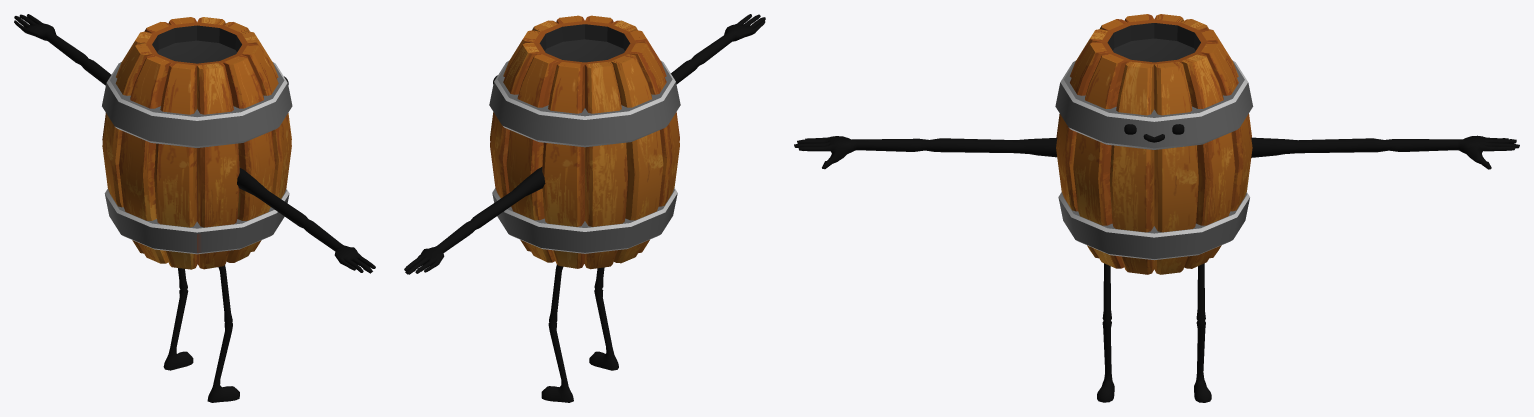
The model's file is CoolBarrel.fbx.
The picture shows the model from 3 angles, left to right: view 1: azimuth 30°, elevation 25°; view 2: azimuth 150°, elevation 25°; view 3: azimuth 270°, elevation 25°; orthographic projection. The views are drawn at different scales.
Visible parts, largest first — view 1: _100Avatars_153_CoolBarrel; view 2: _100Avatars_153_CoolBarrel; view 3: _100Avatars_153_CoolBarrel.
Boxes of the visible parts, <box> form: _100Avatars_153_CoolBarrel: <box>14,14,375,402</box>; _100Avatars_153_CoolBarrel: <box>404,14,765,402</box>; _100Avatars_153_CoolBarrel: <box>794,14,1519,402</box>.
Size of the model in its own units: 2.02 by 3.97 by 7.42.
Materials: 1 (1 with a texture image).
